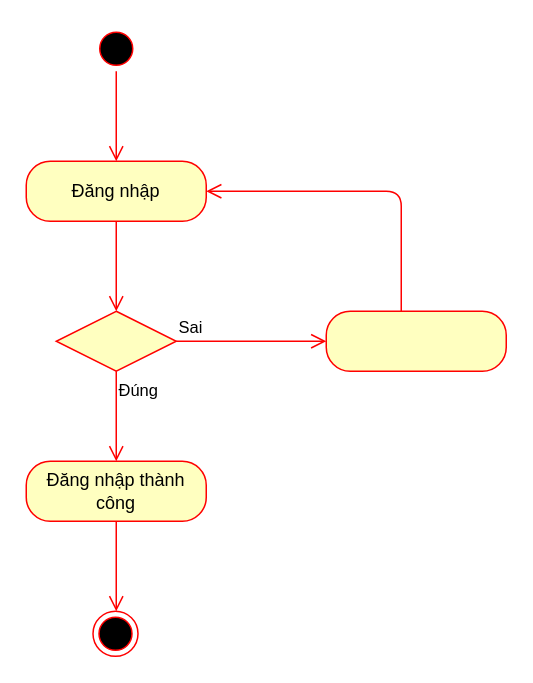
This 533x683 diagram has some shape labels left out. Here are the shapes that lost their labels. From the top down, the centre of each, then its label:
the point at 115,340: Kiểm tra
the point at 415,340: Yêu cầu nhập lại
